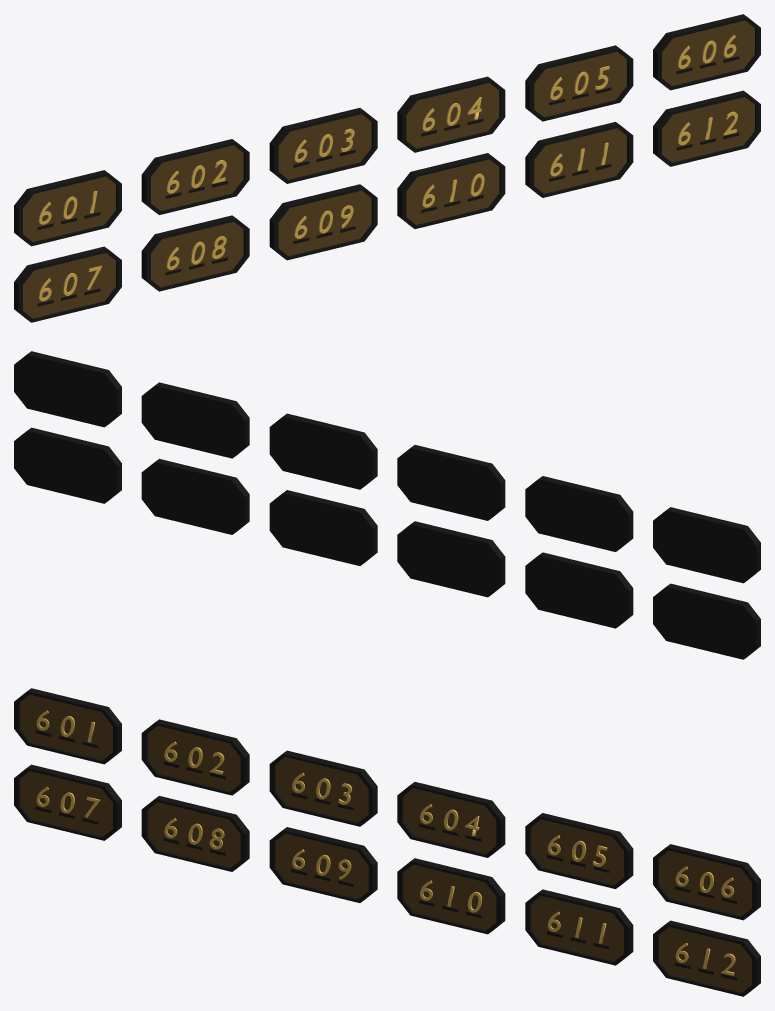
The model's file is 6F_signwithnum.fbx.
3 views of the same model, one above another, from view 1: azimuth 30°, elevation 25°; view 2: azimuth 150°, elevation 25°; view 3: azimuth 330°, elevation 25° (orthographic).
Visible parts, largest first — view 1: 611, 602, 608, 603, 604, 605, 609, 610, 612, 606, 607, 601; view 2: 611, 602, 608, 603, 604, 605, 609, 610, 612, 606, 607, 601; view 3: 608, 602, 603, 605, 609, 610, 604, 611, 601, 606, 607, 612.
Part boxes in pixels (bbox=[...]): 611: bbox=[525, 122, 633, 197]; 602: bbox=[141, 139, 249, 214]; 608: bbox=[141, 215, 249, 291]; 603: bbox=[269, 108, 377, 183]; 604: bbox=[397, 76, 505, 152]; 605: bbox=[525, 45, 633, 121]; 609: bbox=[269, 184, 377, 260]; 610: bbox=[397, 153, 505, 228]; 612: bbox=[653, 90, 760, 166]; 606: bbox=[653, 14, 760, 90]; 607: bbox=[14, 246, 121, 322]; 601: bbox=[14, 170, 121, 246]; 611: bbox=[141, 459, 249, 534]; 602: bbox=[525, 476, 633, 551]; 608: bbox=[525, 552, 633, 628]; 603: bbox=[397, 445, 505, 520]; 604: bbox=[269, 413, 377, 489]; 605: bbox=[141, 382, 249, 458]; 609: bbox=[397, 521, 505, 597]; 610: bbox=[269, 490, 377, 565]; 612: bbox=[14, 427, 121, 503]; 606: bbox=[14, 351, 121, 427]; 607: bbox=[653, 583, 760, 659]; 601: bbox=[653, 507, 760, 583]; 608: bbox=[141, 796, 249, 871]; 602: bbox=[141, 719, 249, 795]; 603: bbox=[269, 750, 377, 826]; 605: bbox=[525, 813, 633, 888]; 609: bbox=[269, 827, 377, 902]; 610: bbox=[397, 858, 505, 934]; 604: bbox=[397, 782, 505, 857]; 611: bbox=[525, 889, 633, 965]; 601: bbox=[14, 688, 121, 764]; 606: bbox=[653, 844, 760, 920]; 607: bbox=[14, 764, 121, 840]; 612: bbox=[653, 920, 760, 996].
Size of the model in its own units: 407 by 68.33 by 4.25.
